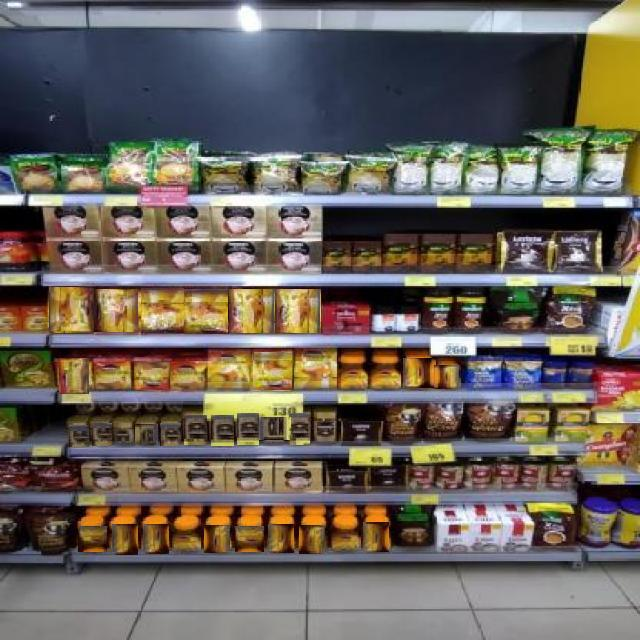Coffee: (48, 287, 94, 333), (183, 288, 229, 334), (275, 288, 320, 333), (140, 287, 184, 333), (228, 289, 274, 333), (94, 288, 138, 332), (295, 348, 336, 389), (209, 351, 250, 390), (252, 351, 292, 390), (95, 359, 133, 390), (133, 360, 170, 390), (170, 361, 206, 390), (60, 358, 89, 394), (402, 358, 436, 388), (371, 358, 402, 390), (340, 358, 369, 390), (111, 524, 138, 555), (234, 525, 264, 552), (142, 524, 169, 554), (77, 525, 107, 552), (331, 525, 361, 552), (362, 522, 389, 552), (172, 525, 201, 552), (299, 524, 325, 554), (210, 414, 234, 446), (314, 412, 337, 445), (183, 414, 207, 445), (236, 413, 259, 445), (268, 524, 294, 552), (204, 525, 230, 553), (258, 418, 291, 440), (288, 413, 310, 445), (435, 365, 459, 389), (91, 422, 112, 446), (160, 422, 181, 446), (113, 423, 134, 446), (135, 424, 158, 445), (68, 424, 89, 447)
